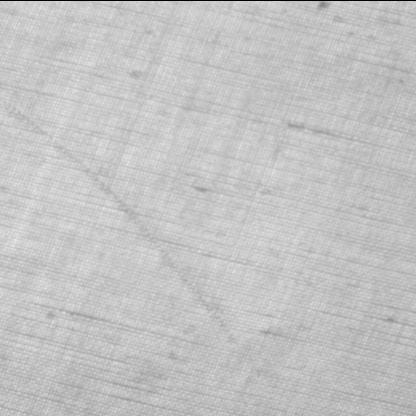objects: (0, 94, 239, 343)
